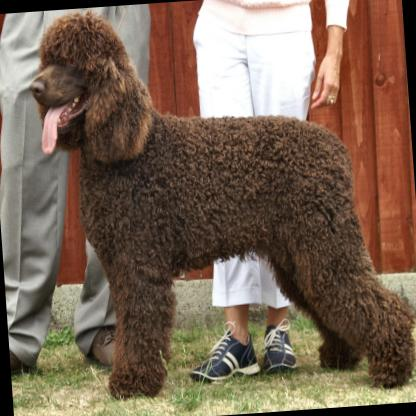Irish_water_spaniel: (26, 0, 416, 412)
